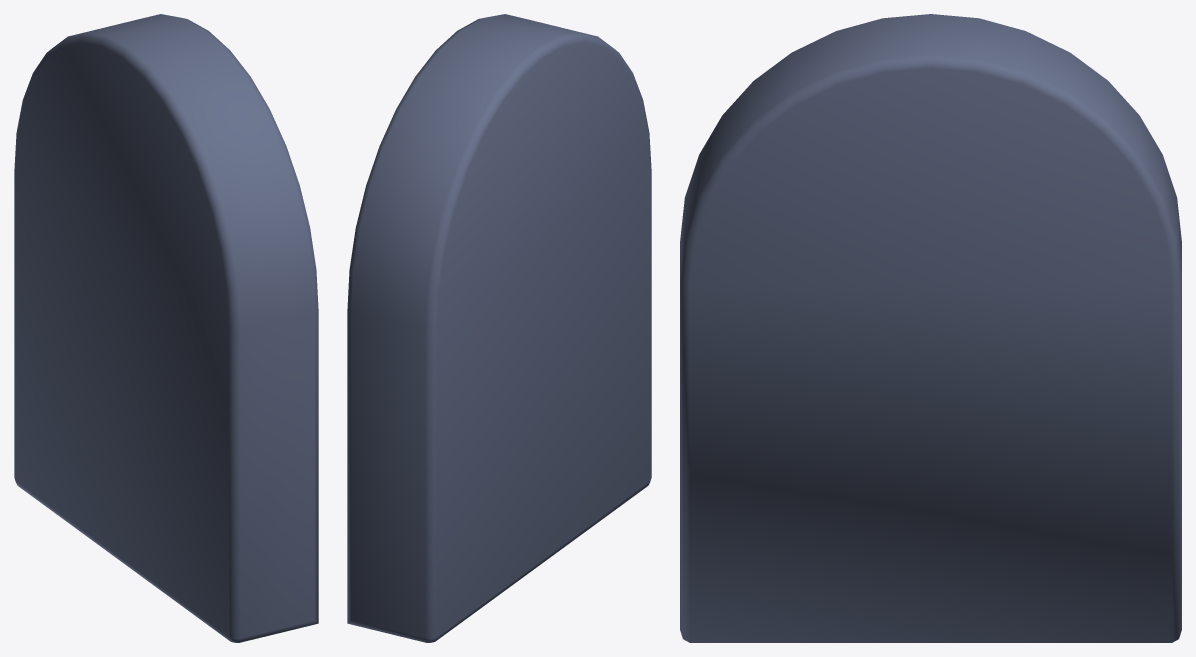
Rendered from block.glb.
3 renders of one model, left to right at view 1: azimuth 30°, elevation 25°; view 2: azimuth 150°, elevation 25°; view 3: azimuth 270°, elevation 25°, orthographic. The views are drawn at different scales.
Visible parts, largest first — view 1: Block; view 2: Block; view 3: Block.
Boxes of the visible parts, x1,y1,x2,y2 form: Block: [14, 14, 318, 642]; Block: [347, 14, 651, 642]; Block: [680, 14, 1181, 642].
Bounding box in the file's own units: 0.4943 × 2.75 × 2.14.
